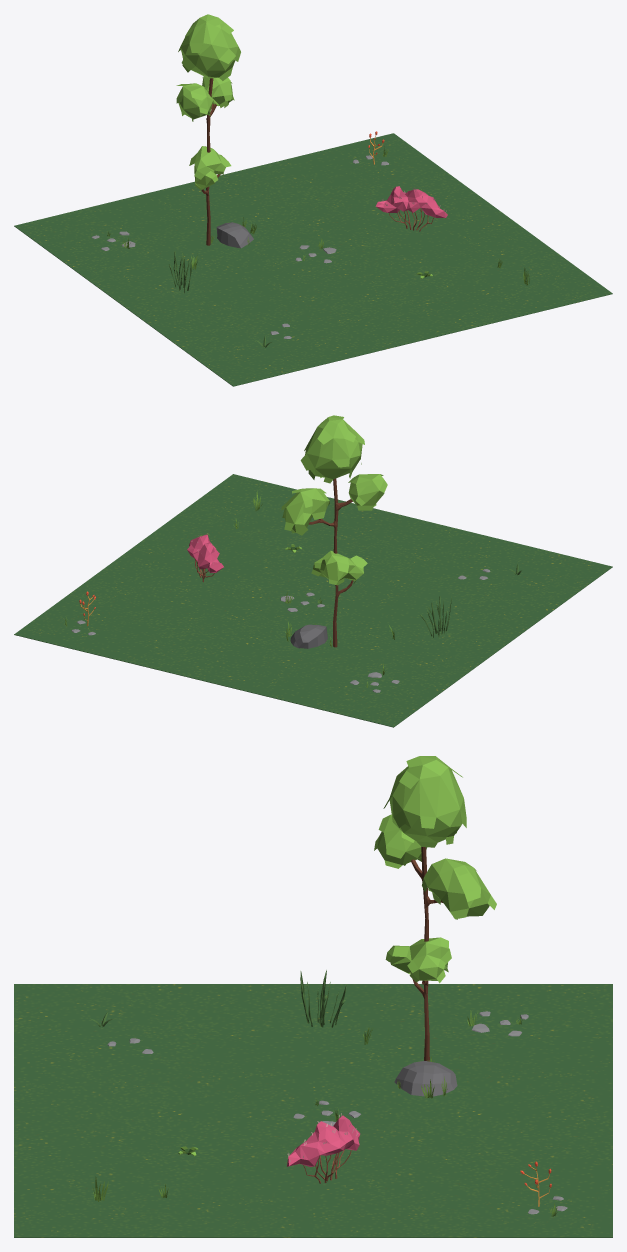
The picture shows the model from 3 angles, top to bottom: view 1: azimuth 30°, elevation 25°; view 2: azimuth 150°, elevation 25°; view 3: azimuth 270°, elevation 25°; orthographic projection. The views are drawn at different scales.
Visible parts, largest first — view 1: EP_02; view 2: EP_02; view 3: EP_02.
Part boxes in pixels (box(x1,y1,x2,y2)): EP_02: box(14, 14, 612, 386); EP_02: box(14, 415, 612, 727); EP_02: box(14, 756, 612, 1237).
Size of what is drawn, in the model's own units: 16 by 9.37 by 16.
Materials: 1 (1 with a texture image).
